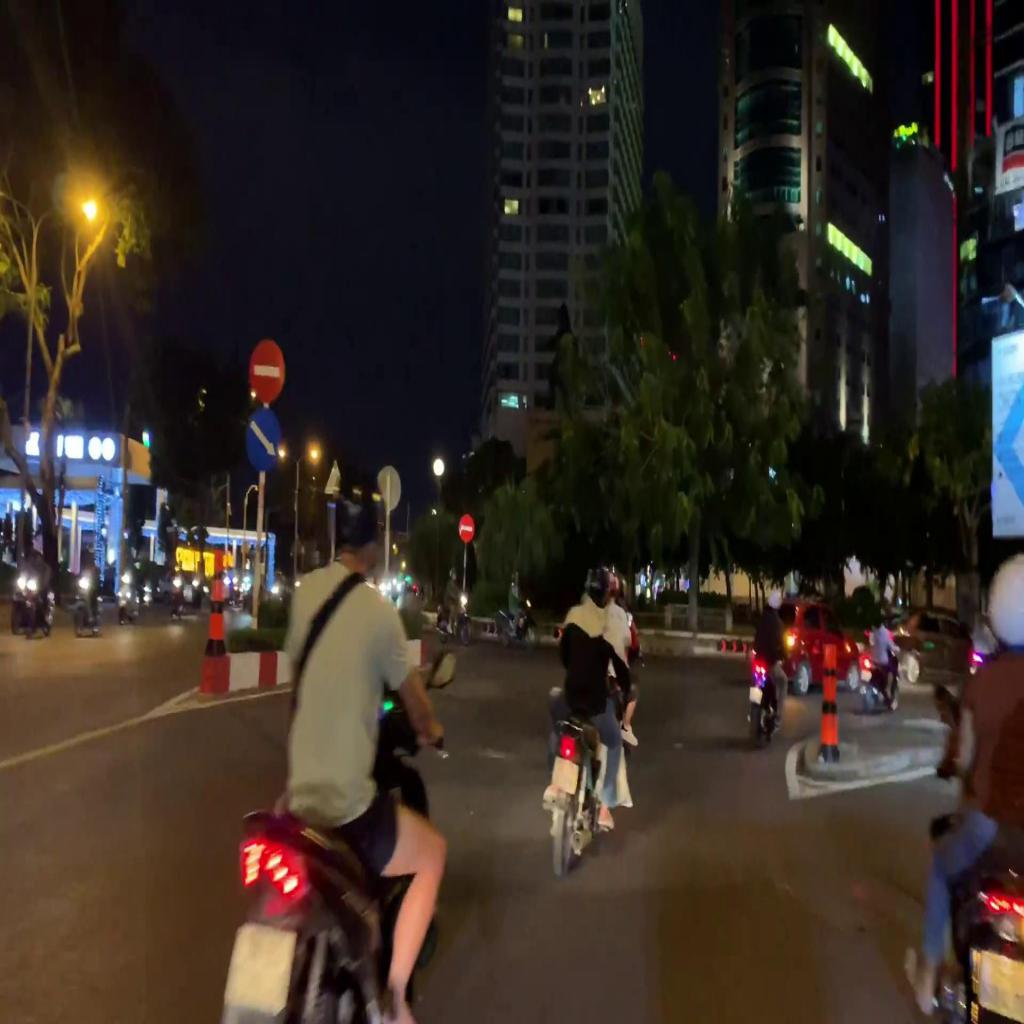cam_xe_di_nguoc_chieu: (251, 341, 285, 401), (458, 515, 475, 544)
huong_phai_di_vuot_chuong_ngai_vat_phai: (246, 412, 278, 472)
